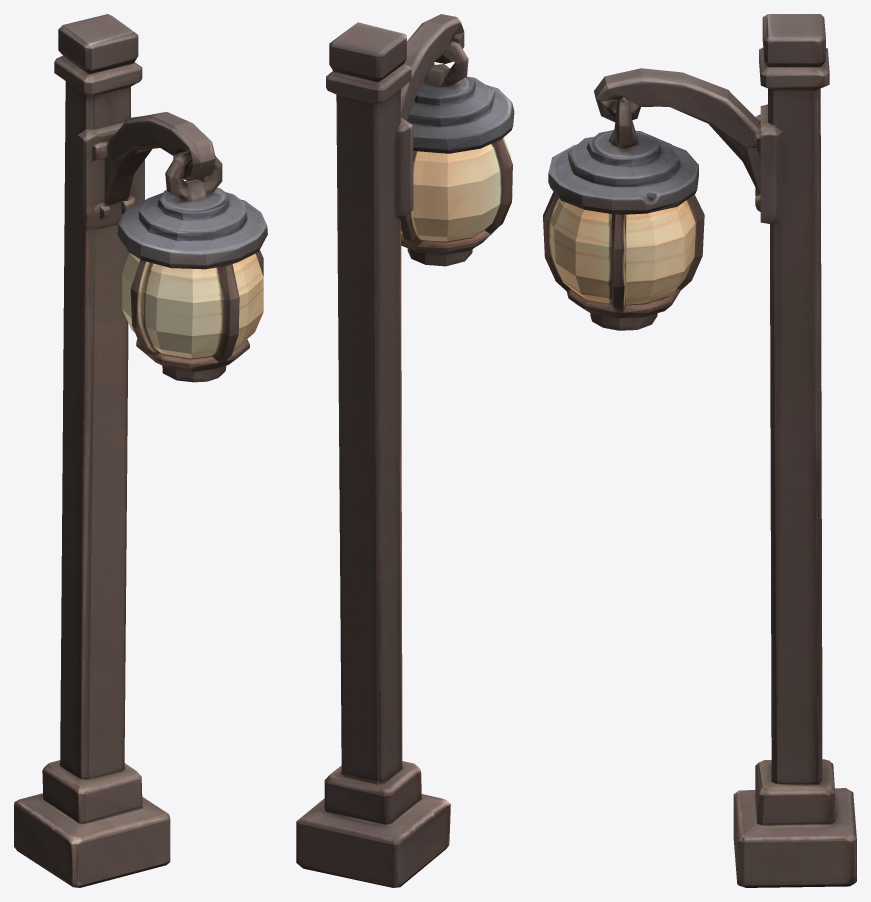
The model's file is streetlamp-CepXYsfV.glb.
The picture shows the model from 3 angles, left to right: view 1: azimuth 30°, elevation 25°; view 2: azimuth 150°, elevation 25°; view 3: azimuth 270°, elevation 25°; orthographic projection. The views are drawn at different scales.
Parts seen in each view (by area): view 1: tripo_node_1f14f5b1-54b4-4662-a76e-4b47bc0e9f1c; view 2: tripo_node_1f14f5b1-54b4-4662-a76e-4b47bc0e9f1c; view 3: tripo_node_1f14f5b1-54b4-4662-a76e-4b47bc0e9f1c.
Part boxes in pixels (x1,y1,x2,y2): tripo_node_1f14f5b1-54b4-4662-a76e-4b47bc0e9f1c: [14, 14, 267, 887]; tripo_node_1f14f5b1-54b4-4662-a76e-4b47bc0e9f1c: [296, 14, 514, 887]; tripo_node_1f14f5b1-54b4-4662-a76e-4b47bc0e9f1c: [543, 14, 856, 887].
Size of the model in its own units: 0.1664 by 0.9776 by 0.331.
Materials: 1 (1 with a texture image).
